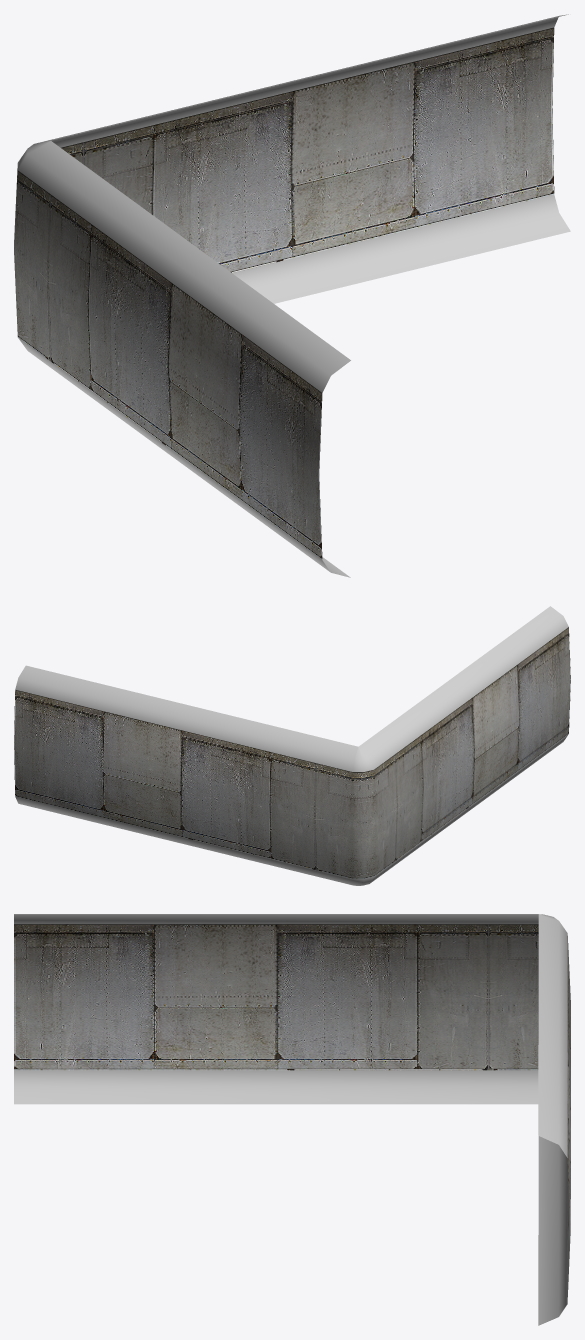
The model's file is Wall_D_Short2mts_07.fbx.
The picture shows the model from 3 angles, top to bottom: view 1: azimuth 30°, elevation 25°; view 2: azimuth 150°, elevation 25°; view 3: azimuth 270°, elevation 25°; orthographic projection. The views are drawn at different scales.
Parts seen in each view (by area): view 1: Wall_D_Short2mts_07; view 2: Wall_D_Short2mts_07; view 3: Wall_D_Short2mts_07.
Boxes of the visible parts, <box> form: Wall_D_Short2mts_07: <box>14,14,570,577</box>; Wall_D_Short2mts_07: <box>14,606,570,885</box>; Wall_D_Short2mts_07: <box>14,914,570,1325</box>.
Size of the model in its own units: 531 by 200 by 531.
